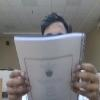notebook: (13, 32, 86, 99)
